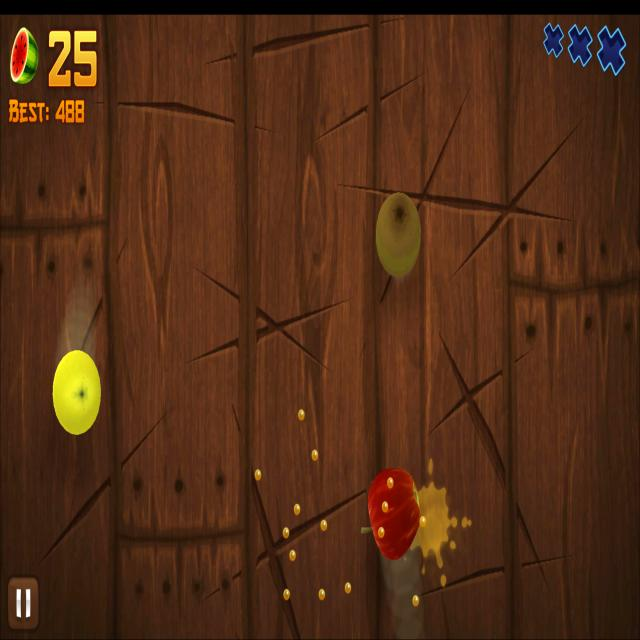fruit: (367, 466, 422, 561), (52, 348, 102, 437), (375, 190, 422, 278)
